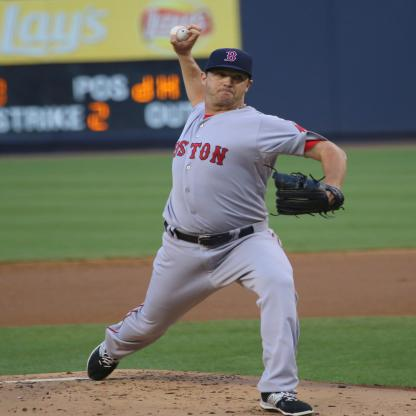Ball: (170, 26, 191, 42)
